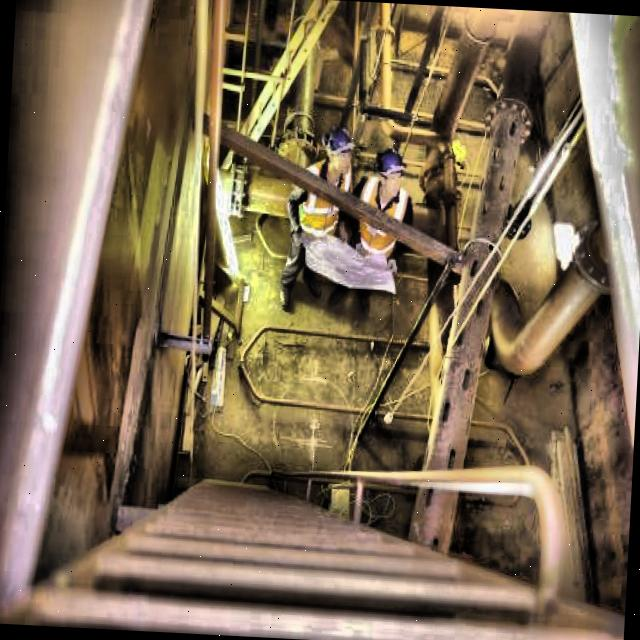helmet: (374, 142, 413, 202), (320, 124, 356, 177)
